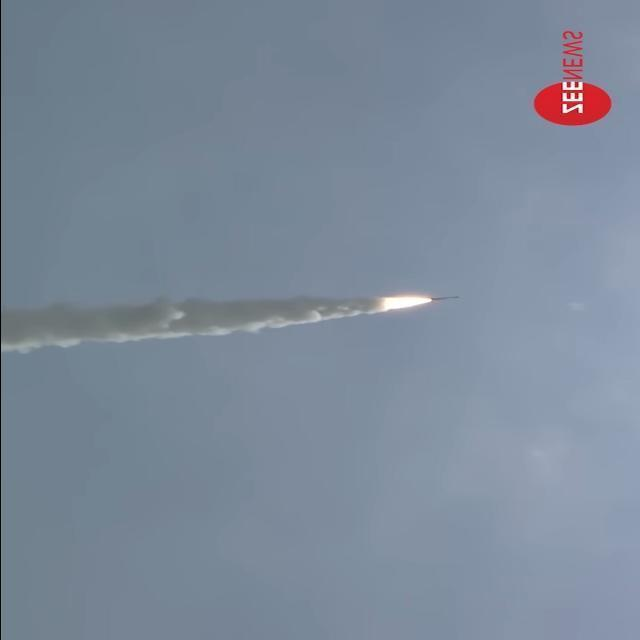missile: (431, 294, 459, 302)
